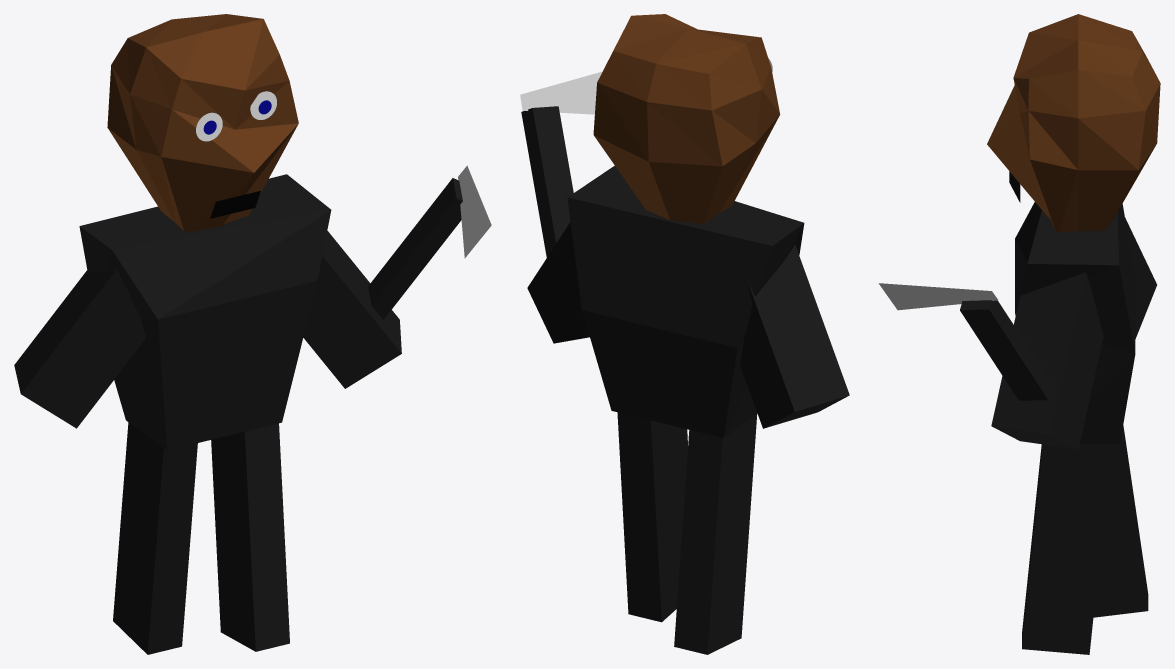
File: axeman3f.obj
3 views of the same model, side by side, from view 1: azimuth 30°, elevation 25°; view 2: azimuth 150°, elevation 25°; view 3: azimuth 270°, elevation 25° (orthographic). The views are drawn at different scales.
Visible parts, largest first — view 1: Cube.001, Cube, Cube.005, Cube.004, Cube.003, Cube.002, Cube.007, Plane.001, Plane; view 2: Cube.001, Cube, Cube.004, Cube.003, Cube.005, Cube.007, Cube.002, Plane.001; view 3: Cube, Cube.005, Cube.001, Cube.002, Cube.004, Cube.007, Plane.001, Cube.003.
Part boxes in pixels (bbox=[...]): Cube.001: bbox=[79, 174, 331, 450]; Cube: bbox=[107, 14, 298, 231]; Cube.005: bbox=[211, 423, 289, 651]; Cube.004: bbox=[113, 422, 197, 654]; Cube.003: bbox=[14, 269, 145, 428]; Cube.002: bbox=[303, 231, 401, 388]; Cube.007: bbox=[368, 178, 462, 319]; Plane.001: bbox=[458, 165, 491, 258]; Plane: bbox=[210, 191, 260, 218]; Cube.001: bbox=[567, 165, 804, 437]; Cube: bbox=[593, 14, 780, 223]; Cube.004: bbox=[674, 414, 757, 654]; Cube.003: bbox=[740, 244, 849, 428]; Cube.005: bbox=[617, 412, 687, 622]; Cube.007: bbox=[521, 106, 573, 257]; Cube.002: bbox=[527, 222, 589, 343]; Plane.001: bbox=[520, 71, 602, 114]; Cube: bbox=[987, 14, 1160, 231]; Cube.005: bbox=[1022, 444, 1111, 654]; Cube.001: bbox=[1015, 202, 1135, 443]; Cube.002: bbox=[991, 272, 1103, 449]; Cube.004: bbox=[1093, 425, 1148, 617]; Cube.007: bbox=[960, 300, 1049, 400]; Plane.001: bbox=[878, 283, 997, 310]; Cube.003: bbox=[1123, 214, 1156, 338].
Size of the model in its own units: 3.96 by 5.89 by 2.56.
